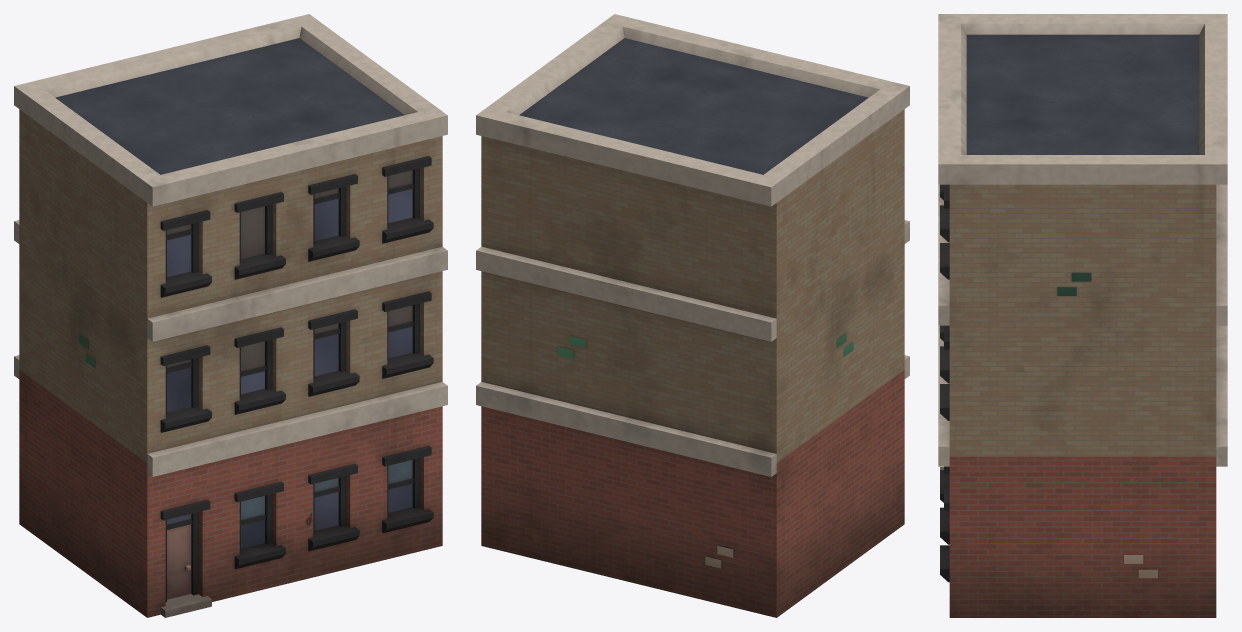
File: building_D.glb
3 views of the same model, side by side, from view 1: azimuth 30°, elevation 25°; view 2: azimuth 150°, elevation 25°; view 3: azimuth 270°, elevation 25° (orthographic). The views are drawn at different scales.
Visible parts, largest first — view 1: building_D_withoutBase; view 2: building_D_withoutBase; view 3: building_D_withoutBase.
Part boxes in pixels (bbox=[...]): building_D_withoutBase: bbox=[14, 14, 447, 617]; building_D_withoutBase: bbox=[476, 14, 909, 617]; building_D_withoutBase: bbox=[938, 14, 1227, 617].
Size of the model in its own units: 1.61 by 2.25 by 1.3.
Materials: 2 (2 with a texture image).
